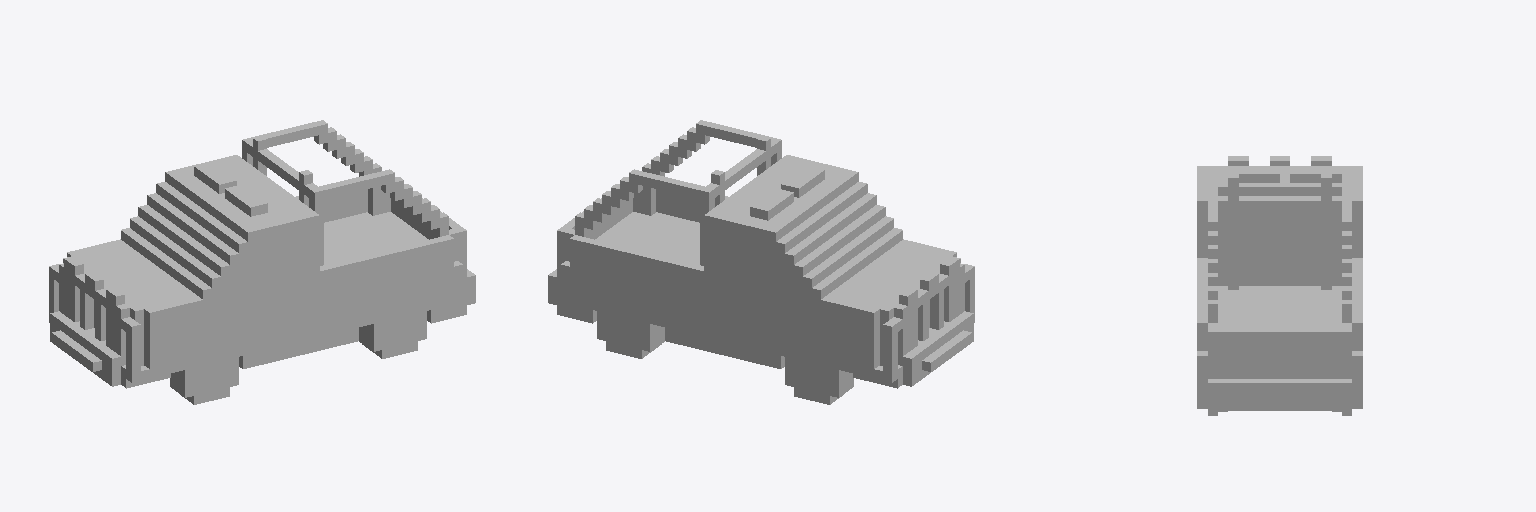
The model's file is CarPicupPolice.obj.
3 views of the same model, side by side, from view 1: azimuth 30°, elevation 25°; view 2: azimuth 150°, elevation 25°; view 3: azimuth 270°, elevation 25° (orthographic).
Parts seen in each view (by area): view 1: object 1; view 2: object 1; view 3: object 1.
Boxes of the visible parts, x1=… form: object 1: x1=49, y1=120, x2=475, y2=404; object 1: x1=548, y1=120, x2=974, y2=404; object 1: x1=1197, y1=156, x2=1362, y2=415.
Bounding box in the file's own units: 4.1 × 2 × 1.6.